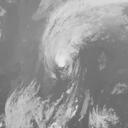cyclone: (43, 24, 80, 80)
